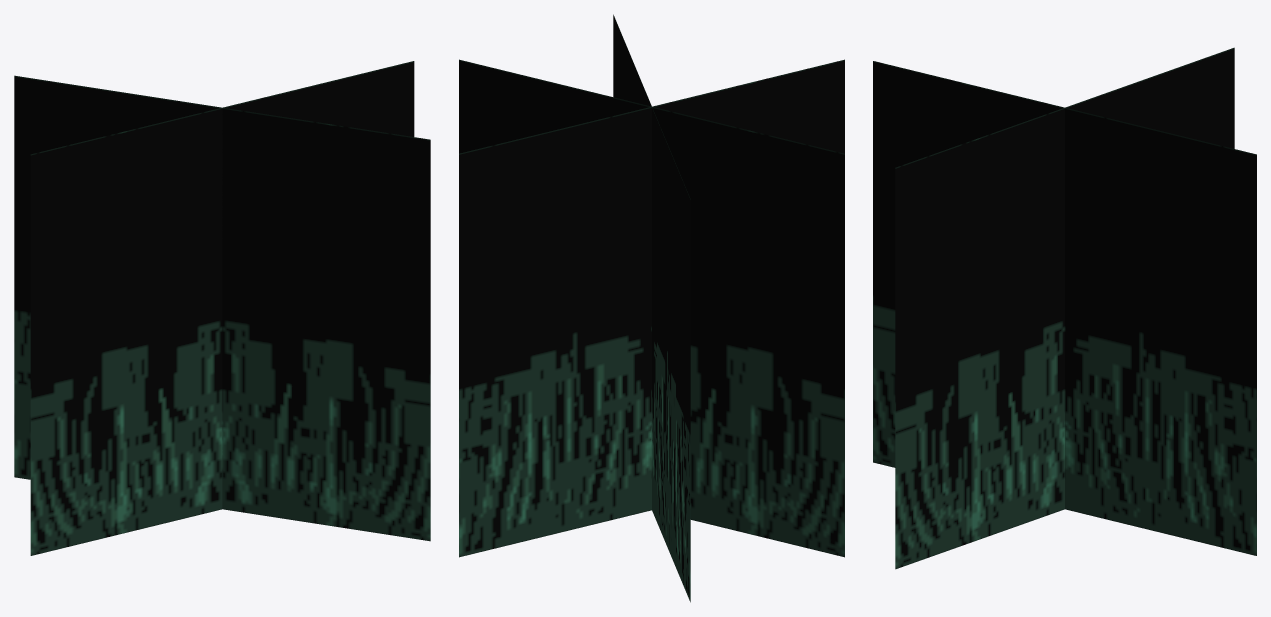
The model's file is basicgrass.fbx.
3 views of the same model, side by side, from view 1: azimuth 30°, elevation 25°; view 2: azimuth 150°, elevation 25°; view 3: azimuth 270°, elevation 25° (orthographic).
Parts seen in each view (by area): view 1: basicgrass; view 2: basicgrass; view 3: basicgrass.
Part boxes in pixels (box(x1,y1,x2,y2)): basicgrass: box(14, 61, 430, 555); basicgrass: box(459, 14, 844, 602); basicgrass: box(873, 47, 1256, 569).
Size of the model in its own units: 1 by 1 by 0.866.
